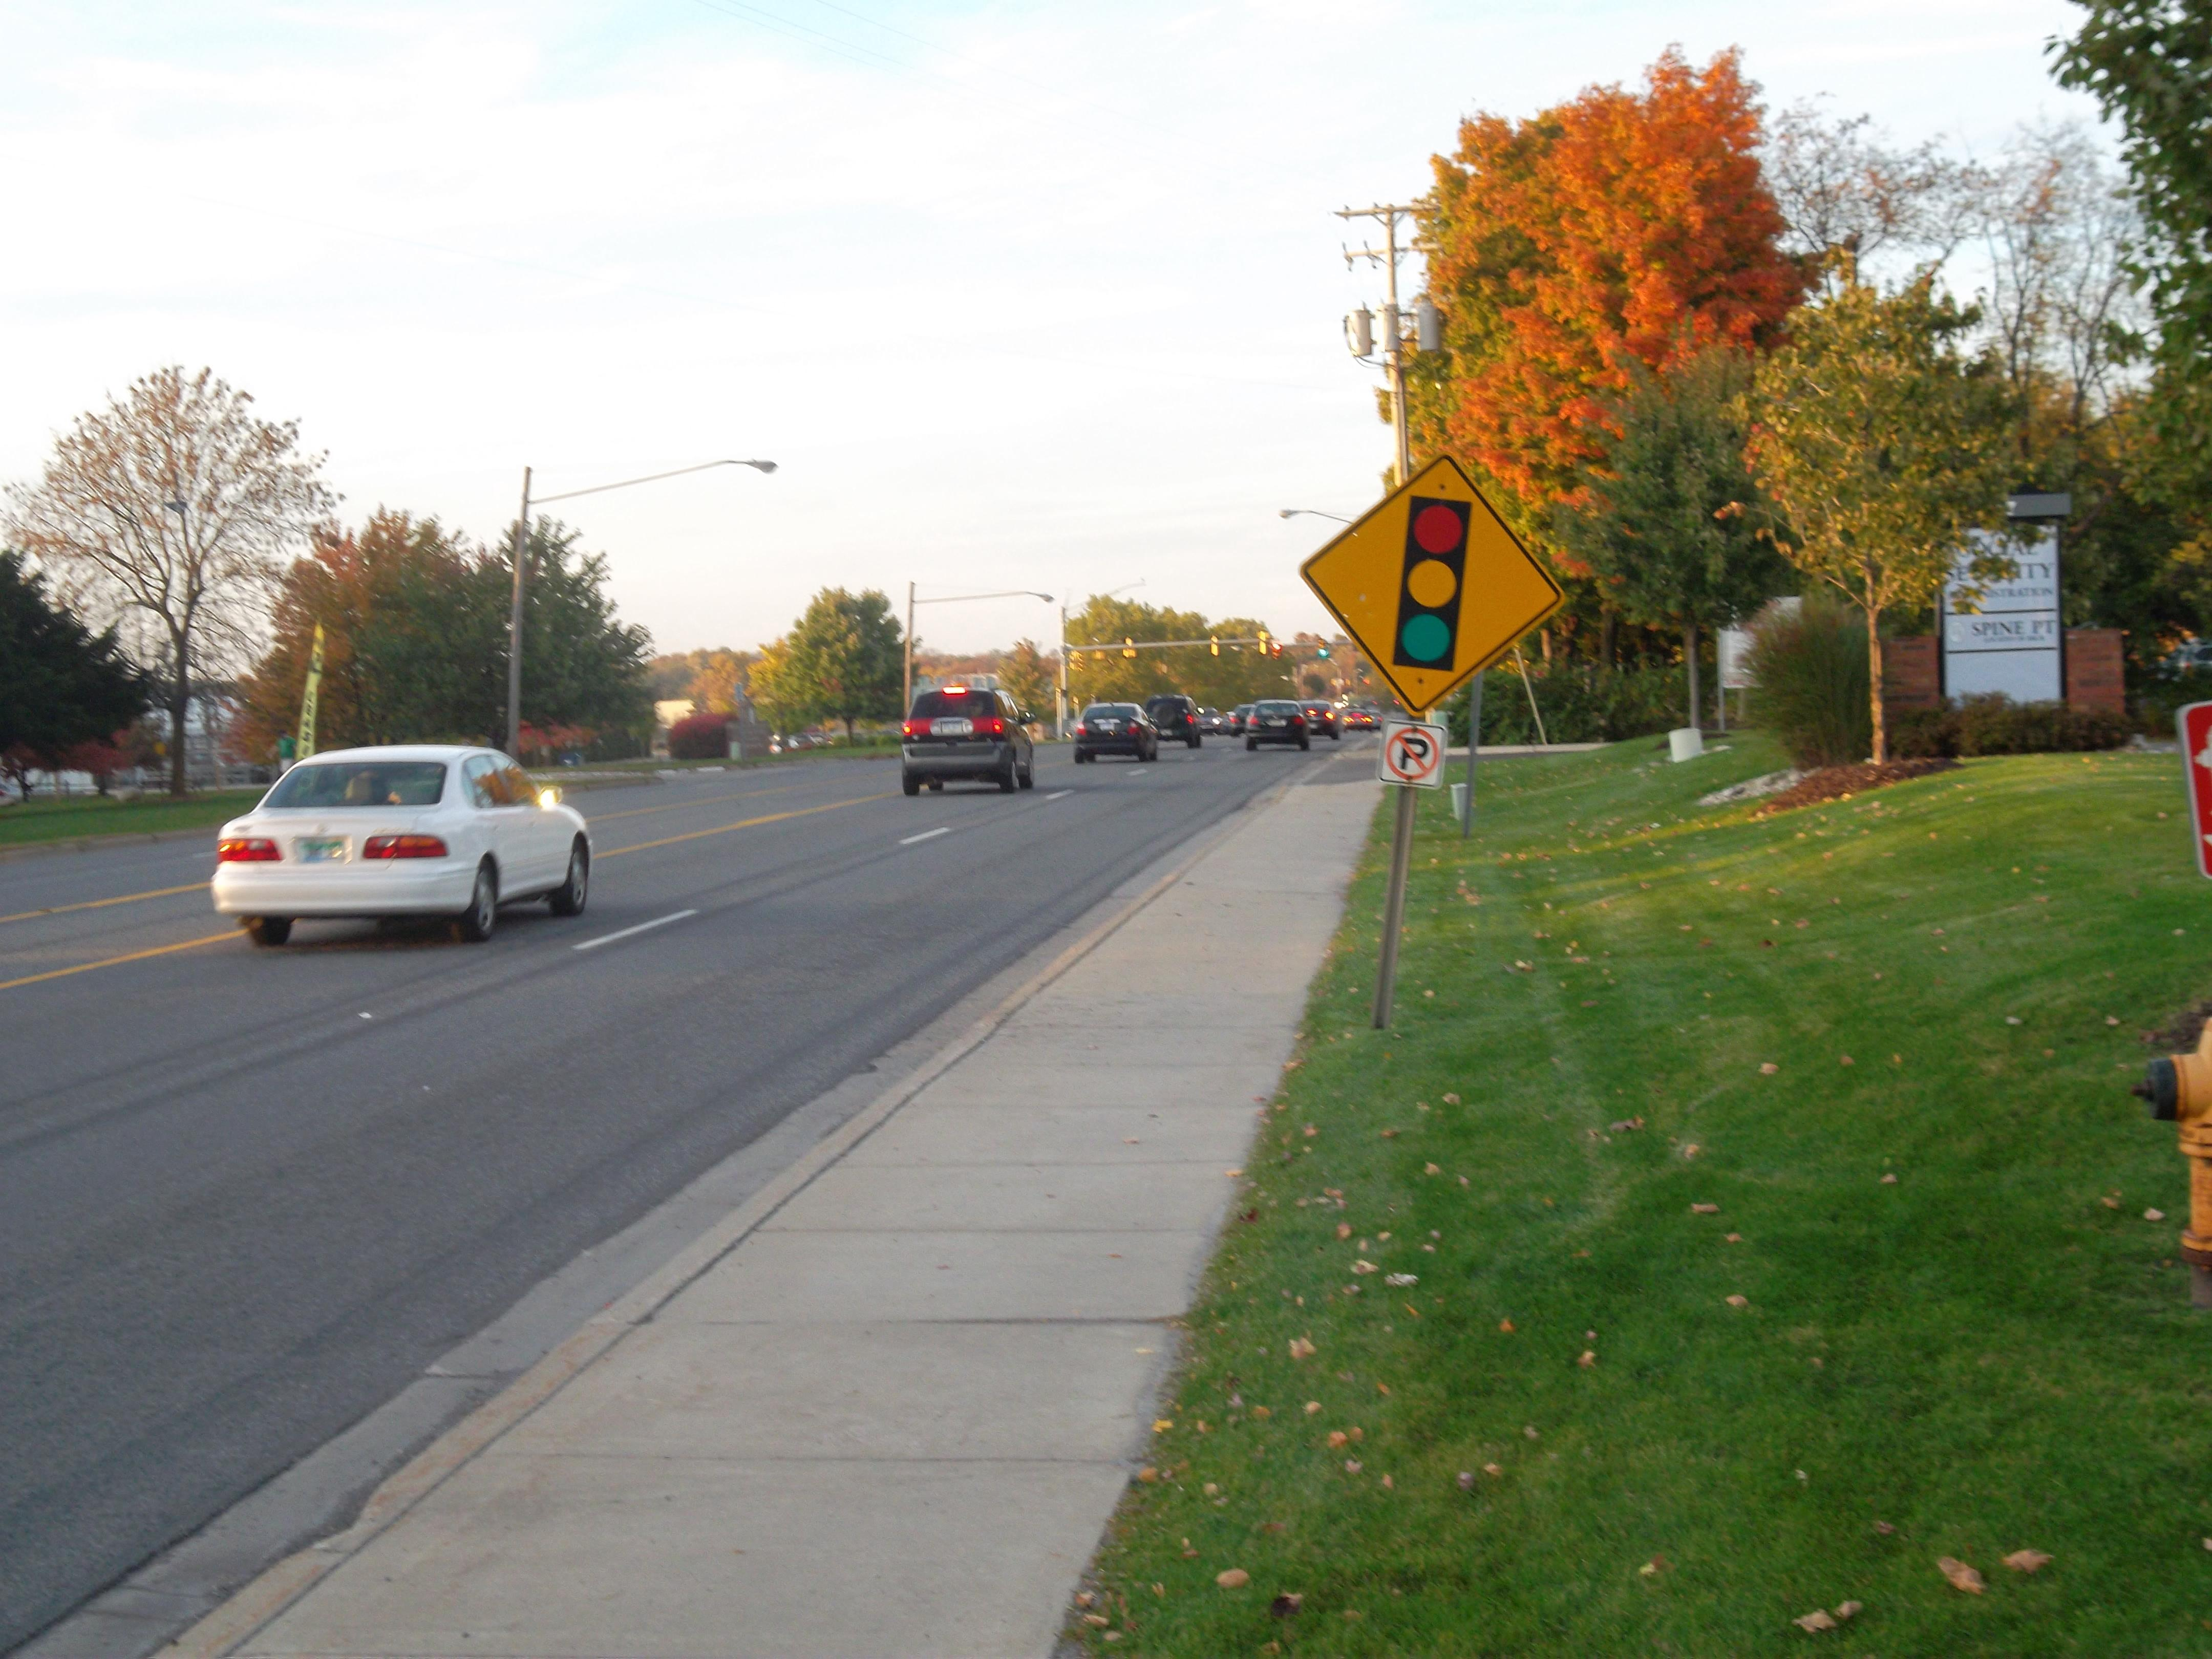regulatory: (1388, 720, 1454, 784)
warning: (1277, 451, 1571, 711)
